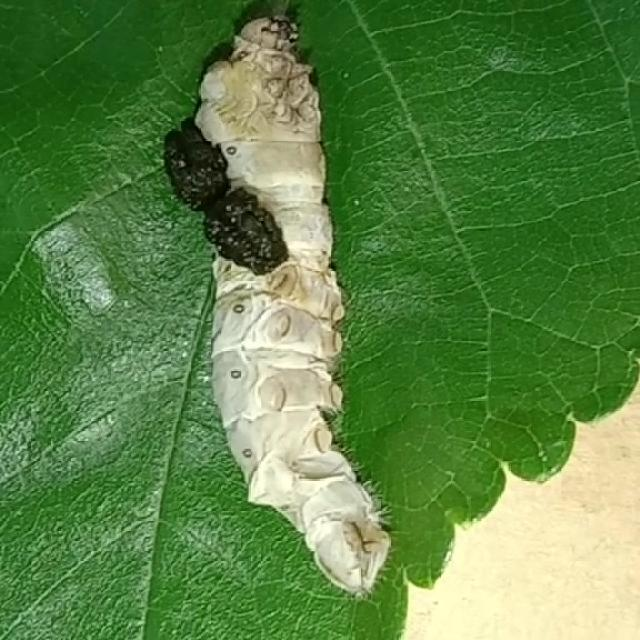Grasserie: (170, 5, 428, 596)
